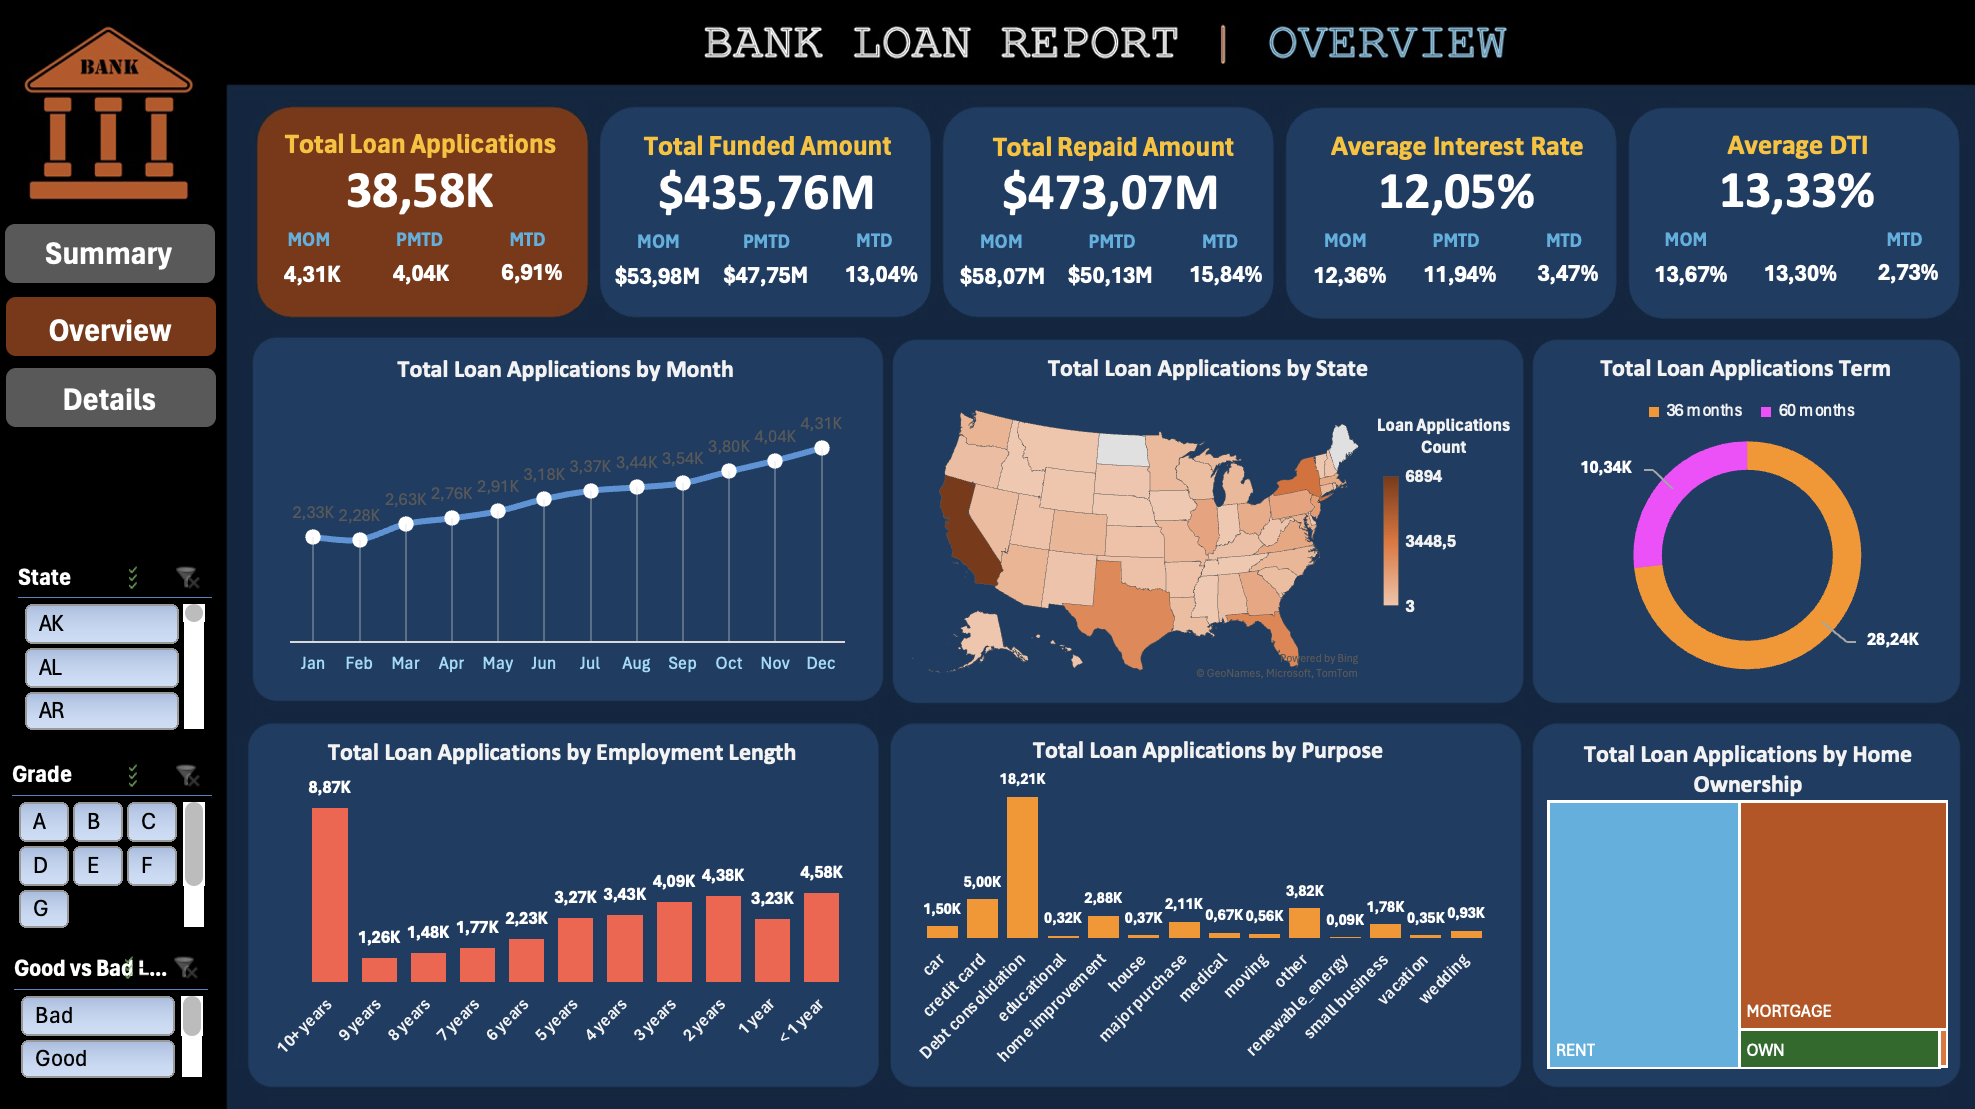

This screenshot's page, from the dashboard's own definition file:
{"tool":"tableau","page":{"name":"OVERVIEW","canvas":[1600,900],"ordinal":1},"visuals":[{"type":"image","param":"/Users/arafathjazeeb/Library/CloudStorage/OneDrive-UniversityofPisa/Data Analyst","box":[8,8,1584,884]},{"type":"worksheet","title":"TRA","mark":"Automatic","box":[770,100,238,81]},{"type":"worksheet","title":"AIR","mark":"Automatic","box":[1037,101,241,77]},{"type":"worksheet","title":"DTI","mark":"Automatic","box":[1307,101,241,72]},{"type":"worksheet","title":"TFA","mark":"Automatic","box":[498,102,241,83]},{"type":"worksheet","title":"TLA","mark":"Automatic","box":[229,103,242,82]},{"type":"text","box":[1328,184,33,30]},{"type":"text","box":[1409,184,39,30]},{"type":"text","box":[1483,184,39,30]},{"type":"text","box":[252,185,33,30]},{"type":"text","box":[333,185,39,30]},{"type":"text","box":[410,185,39,30]},{"type":"text","box":[1065,185,33,30]},{"type":"text","box":[1141,185,39,30]},{"type":"text","box":[1215,185,39,30]},{"type":"text","box":[795,186,33,30]},{"type":"text","box":[869,186,39,30]},{"type":"text","box":[946,186,39,30]},{"type":"text","box":[524,188,33,30]},{"type":"text","box":[601,188,39,30]},{"type":"text","box":[675,188,39,30]},{"type":"worksheet","title":"MTD_AIR","mark":"Automatic","box":[1043,203,77,53]},{"type":"dashboard-object","box":[30,204,164,52]},{"type":"worksheet","title":"PMTD_TLA","mark":"Automatic","box":[310,207,86,43]},{"type":"worksheet","title":"MTD_TFA","mark":"Automatic","box":[501,207,75,46]},{"type":"worksheet","title":"MTD_TRA","mark":"Automatic","box":[768,208,84,43]},{"type":"worksheet","title":"PMTD_AIR","mark":"Automatic","box":[1121,208,84,44]},{"type":"worksheet","title":"PMTD_DTI","mark":"Automatic","box":[1390,208,82,39]},{"type":"worksheet","title":"MOM_TFA","mark":"Automatic","box":[654,209,87,41]},{"type":"worksheet","title":"MTD_DTI","mark":"Automatic","box":[1309,209,73,39]},{"type":"worksheet","title":"PMTD_TFA","mark":"Automatic","box":[581,210,81,39]},{"type":"worksheet","title":"MOM_DTI","mark":"Automatic","box":[1472,210,70,34]},{"type":"worksheet","title":"MTD_TLA","mark":"Automatic","box":[229,211,71,33]},{"type":"worksheet","title":"PMTD_TRA","mark":"Automatic","box":[853,211,76,38]},{"type":"worksheet","title":"MOM_TRA","mark":"Automatic","box":[926,211,79,38]},{"type":"worksheet","title":"MOM_AIR","mark":"Automatic","box":[1197,211,86,36]},{"type":"worksheet","title":"MOM_TLA","mark":"Automatic","box":[392,212,68,32]},{"type":"dashboard-object","box":[29,269,164,52]},{"type":"worksheet","title":"Month","mark":"Area","rows":["Calculation_5259571079074824265","Calculation_5259571079074824265"],"cols":["issue_date"],"box":[229,287,484,268]},{"type":"worksheet","title":"State","mark":"Multipolygon","box":[731,289,483,268]},{"type":"worksheet","title":"Term","mark":"Pie","rows":["Calculation_1125688833947185153","Calculation_1125688833947185153"],"box":[1229,290,333,264]},{"type":"legend","title":"Term","param":"[federated.19laxnm011tjax19or1he1sgg5cj].[none:term:nk]","box":[1293,323,280,21]},{"type":"dashboard-object","box":[29,332,164,52]},{"type":"legend","title":"State","param":"[federated.19laxnm011tjax19or1he1sgg5cj].[usr:Calculation_5259571079074824265:qk","box":[1094,492,121,60]},{"type":"parameter","param":"[Parameters].[Parameter 1]","box":[33,558,160,44]},{"type":"worksheet","title":"Employee Length","mark":"Bar","rows":["emp_length"],"cols":["Calculation_5259571079074824265"],"box":[226,589,482,267]},{"type":"worksheet","title":"Purpose","mark":"Automatic","rows":["purpose"],"cols":["Calculation_5259571079074824265"],"box":[729,589,485,265]},{"type":"worksheet","title":"Home Ownership","mark":"Automatic","box":[1237,590,322,271]},{"type":"filter","title":"AIR","param":"[federated.19laxnm011tjax19or1he1sgg5cj].[none:verification_status:nk]","box":[34,617,160,58]},{"type":"filter","title":"AIR","param":"[federated.19laxnm011tjax19or1he1sgg5cj].[none:address_state:nk]","box":[34,675,160,54]},{"type":"filter","title":"AIR","param":"[federated.19laxnm011tjax19or1he1sgg5cj].[none:grade:nk]","box":[33,736,160,49]},{"type":"filter","title":"AIR","param":"[federated.19laxnm011tjax19or1he1sgg5cj].[none:purpose:nk]","box":[32,795,160,60]}]}

Visuals, with their boxes in screenshot pixels (x1, y1, x2, y2), scaled from the page's 1600x900 canvas onto the 1975x1109 screenshot:
image: left=10, top=10, right=1965, bottom=1099
"TRA" worksheet: left=950, top=123, right=1244, bottom=223
"AIR" worksheet: left=1280, top=124, right=1578, bottom=219
"DTI" worksheet: left=1613, top=124, right=1911, bottom=213
"TFA" worksheet: left=615, top=126, right=912, bottom=228
"TLA" worksheet: left=283, top=127, right=581, bottom=228
text: left=1639, top=227, right=1680, bottom=264
text: left=1739, top=227, right=1787, bottom=264
text: left=1831, top=227, right=1879, bottom=264
text: left=311, top=228, right=352, bottom=265
text: left=411, top=228, right=459, bottom=265
text: left=506, top=228, right=554, bottom=265
text: left=1315, top=228, right=1355, bottom=265
text: left=1408, top=228, right=1457, bottom=265
text: left=1500, top=228, right=1548, bottom=265
text: left=981, top=229, right=1022, bottom=266
text: left=1073, top=229, right=1121, bottom=266
text: left=1168, top=229, right=1216, bottom=266
text: left=647, top=232, right=688, bottom=269
text: left=742, top=232, right=790, bottom=269
text: left=833, top=232, right=881, bottom=269
"MTD_AIR" worksheet: left=1287, top=250, right=1382, bottom=315
dashboard-object: left=37, top=251, right=239, bottom=315
"PMTD_TLA" worksheet: left=383, top=255, right=489, bottom=308
"MTD_TFA" worksheet: left=618, top=255, right=711, bottom=312
"MTD_TRA" worksheet: left=948, top=256, right=1052, bottom=309
"PMTD_AIR" worksheet: left=1384, top=256, right=1487, bottom=311
"PMTD_DTI" worksheet: left=1716, top=256, right=1817, bottom=304
"MOM_TFA" worksheet: left=807, top=258, right=915, bottom=308
"MTD_DTI" worksheet: left=1616, top=258, right=1706, bottom=306
"PMTD_TFA" worksheet: left=717, top=259, right=817, bottom=307
"MOM_DTI" worksheet: left=1817, top=259, right=1903, bottom=301
"MTD_TLA" worksheet: left=283, top=260, right=370, bottom=301
"PMTD_TRA" worksheet: left=1053, top=260, right=1147, bottom=307
"MOM_TRA" worksheet: left=1143, top=260, right=1241, bottom=307
"MOM_AIR" worksheet: left=1478, top=260, right=1584, bottom=304
"MOM_TLA" worksheet: left=484, top=261, right=568, bottom=301
dashboard-object: left=36, top=331, right=238, bottom=396
"Month" worksheet (Area marks): left=283, top=354, right=880, bottom=684
"State" worksheet (Multipolygon marks): left=902, top=356, right=1499, bottom=686
"Term" worksheet (Pie marks): left=1517, top=357, right=1928, bottom=683
"Term" legend: left=1596, top=398, right=1942, bottom=424
dashboard-object: left=36, top=409, right=238, bottom=473
"State" legend: left=1350, top=606, right=1500, bottom=680
parameter: left=41, top=688, right=238, bottom=742
"Employee Length" worksheet (Bar marks): left=279, top=726, right=874, bottom=1055
"Purpose" worksheet: left=900, top=726, right=1499, bottom=1052
"Home Ownership" worksheet: left=1527, top=727, right=1924, bottom=1061
"AIR" filter: left=42, top=760, right=239, bottom=832
"AIR" filter: left=42, top=832, right=239, bottom=898
"AIR" filter: left=41, top=907, right=238, bottom=967
"AIR" filter: left=40, top=980, right=237, bottom=1054
